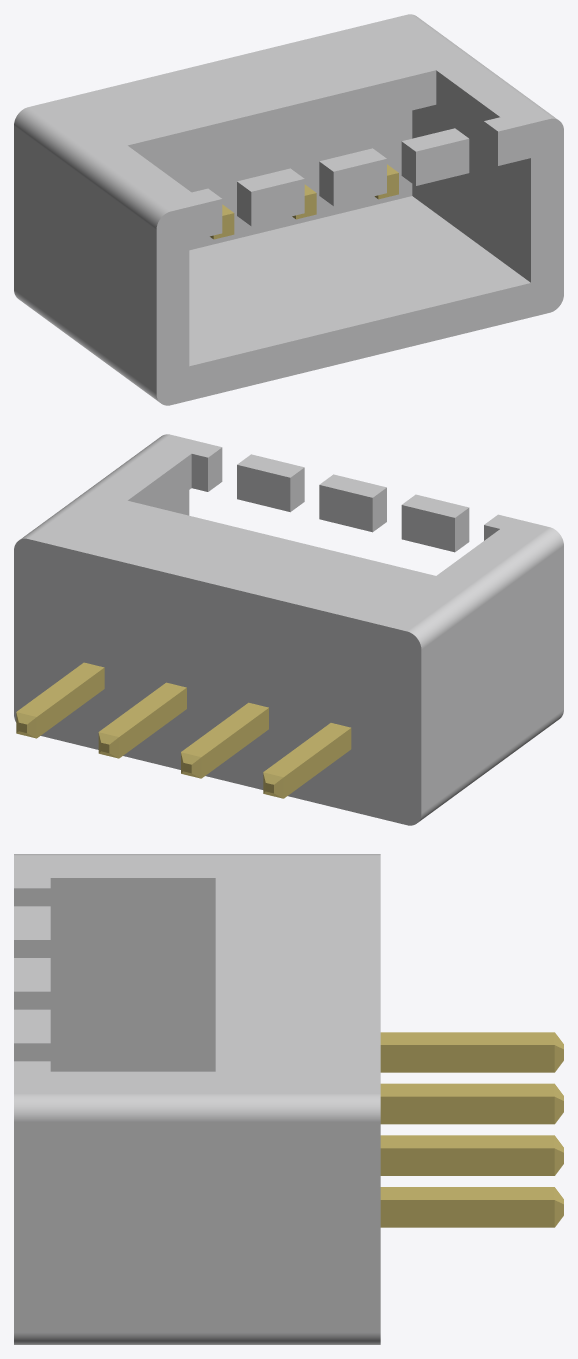
Rendered from jst_ph_4pin.glb.
3 renders of one model, top to bottom at view 1: azimuth 30°, elevation 25°; view 2: azimuth 150°, elevation 25°; view 3: azimuth 270°, elevation 25°, orthographic. The views are drawn at different scales.
Parts seen in each view (by area): view 1: world; view 2: world; view 3: world.
Boxes of the visible parts, box(x1,y1,x2,y2) form: world: box(14, 14, 563, 405); world: box(14, 434, 563, 825); world: box(14, 854, 563, 1344).
Bounding box in the file's own units: 9.9 × 4.5 × 9.
